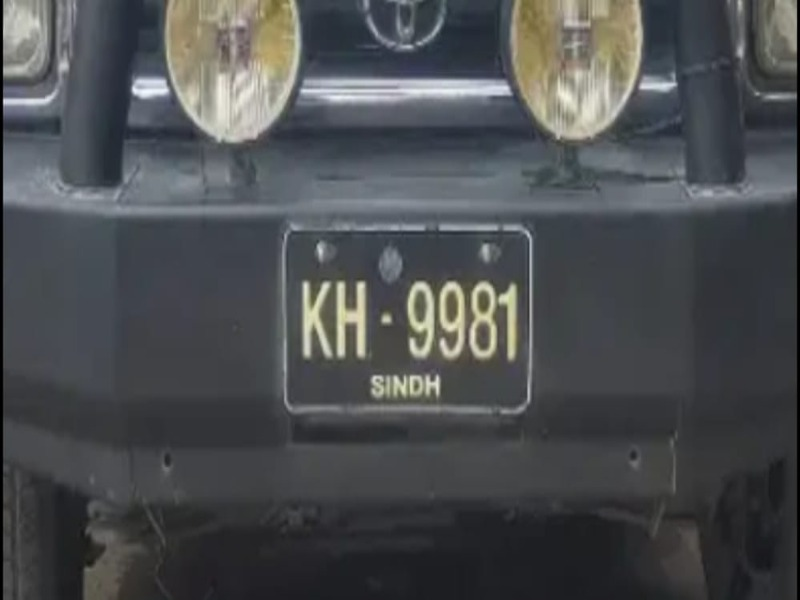License Plate: (279, 225, 530, 410)
